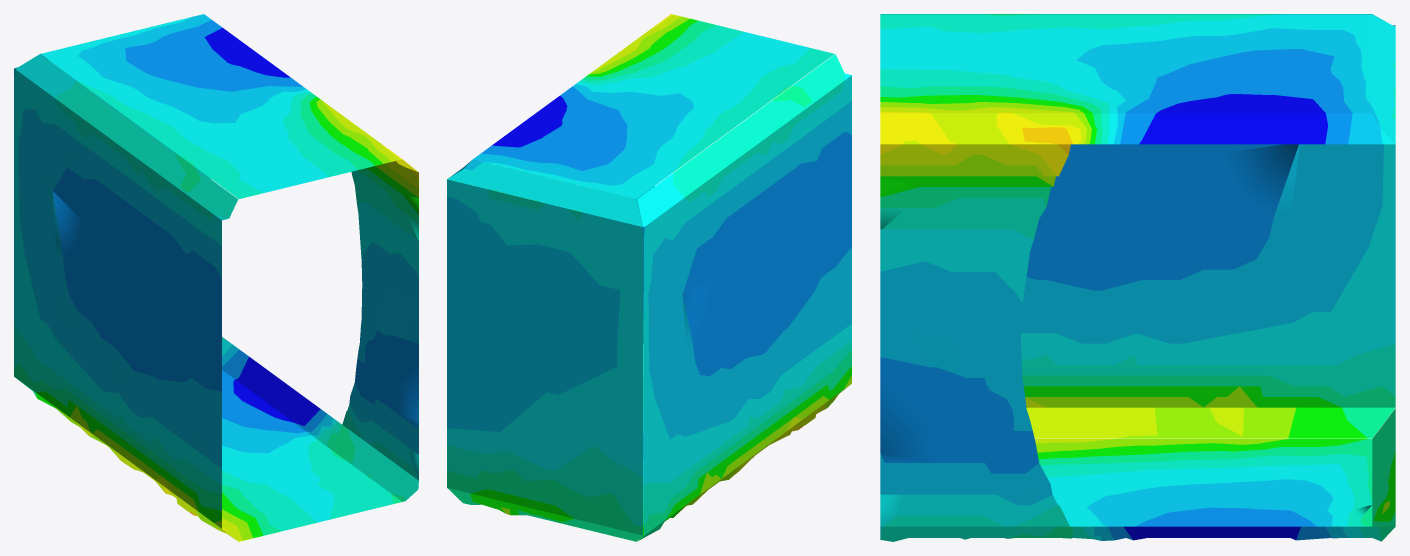
The model's file is kolva.fbx.
3 renders of one model, left to right at view 1: azimuth 30°, elevation 25°; view 2: azimuth 150°, elevation 25°; view 3: azimuth 270°, elevation 25°, orthographic. The views are drawn at different scales.
Visible parts, largest first — view 1: Tolva; view 2: Tolva; view 3: Tolva.
Boxes of the visible parts, left/top/right/bottom form: Tolva: left=14, top=14, right=418, bottom=541; Tolva: left=447, top=14, right=851, bottom=541; Tolva: left=880, top=14, right=1395, bottom=541.
Size of the model in its own units: 1203 by 2000 by 2201.
